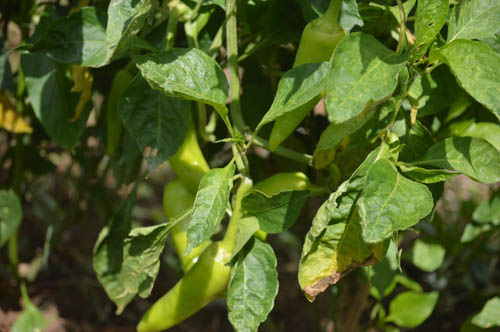ChiliPepper: (269, 24, 340, 157), (137, 247, 231, 332), (164, 182, 206, 267), (170, 136, 217, 196)
